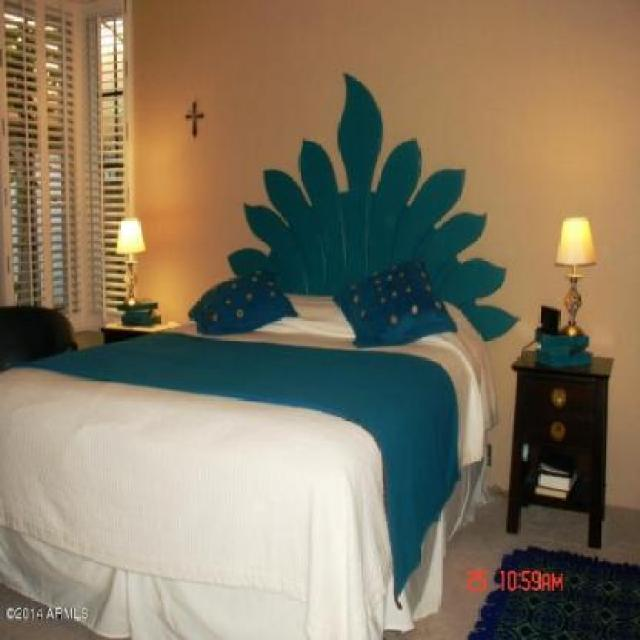Floor: (384, 489, 639, 638), (1, 582, 130, 638)
